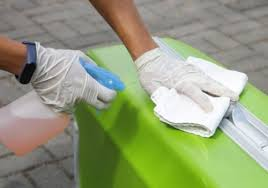suitcase: (69, 34, 268, 188)
